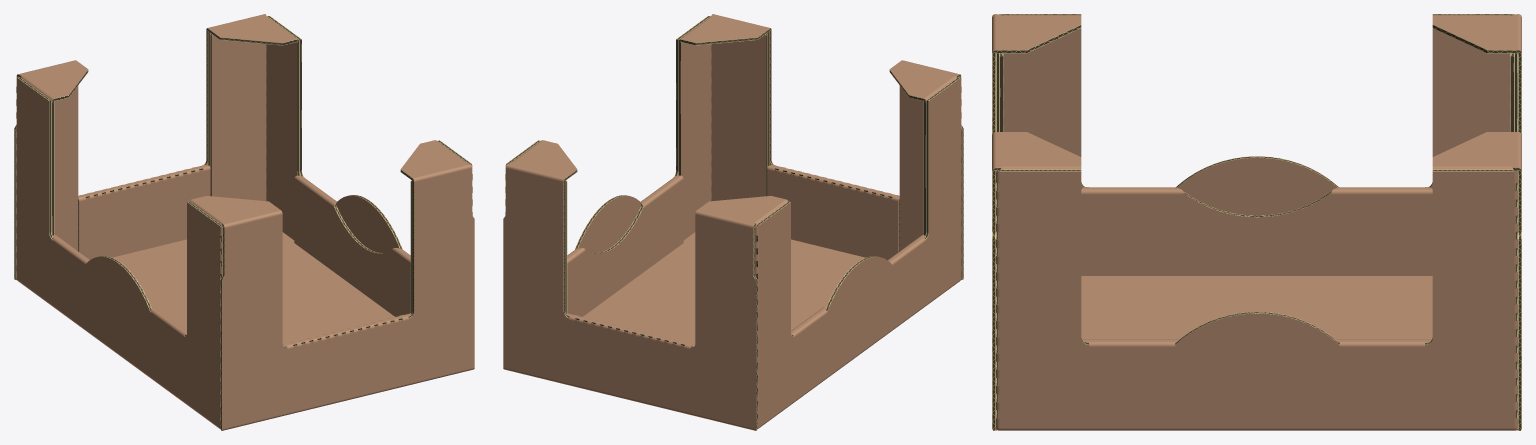
3 renders of one model, left to right at view 1: azimuth 30°, elevation 25°; view 2: azimuth 150°, elevation 25°; view 3: azimuth 270°, elevation 25°, orthographic. The views are drawn at different scales.
Parts seen in each view (by area): view 1: Charola_Postes_ARD-node; view 2: Charola_Postes_ARD-node; view 3: Charola_Postes_ARD-node.
Boxes of the visible parts, x1=… form: Charola_Postes_ARD-node: x1=14, y1=14, x2=474, y2=430; Charola_Postes_ARD-node: x1=503, y1=14, x2=963, y2=430; Charola_Postes_ARD-node: x1=992, y1=14, x2=1521, y2=430.
Size of the model in its own units: 0.396 by 0.308 by 0.5637.
3 materials, 3 textured.
